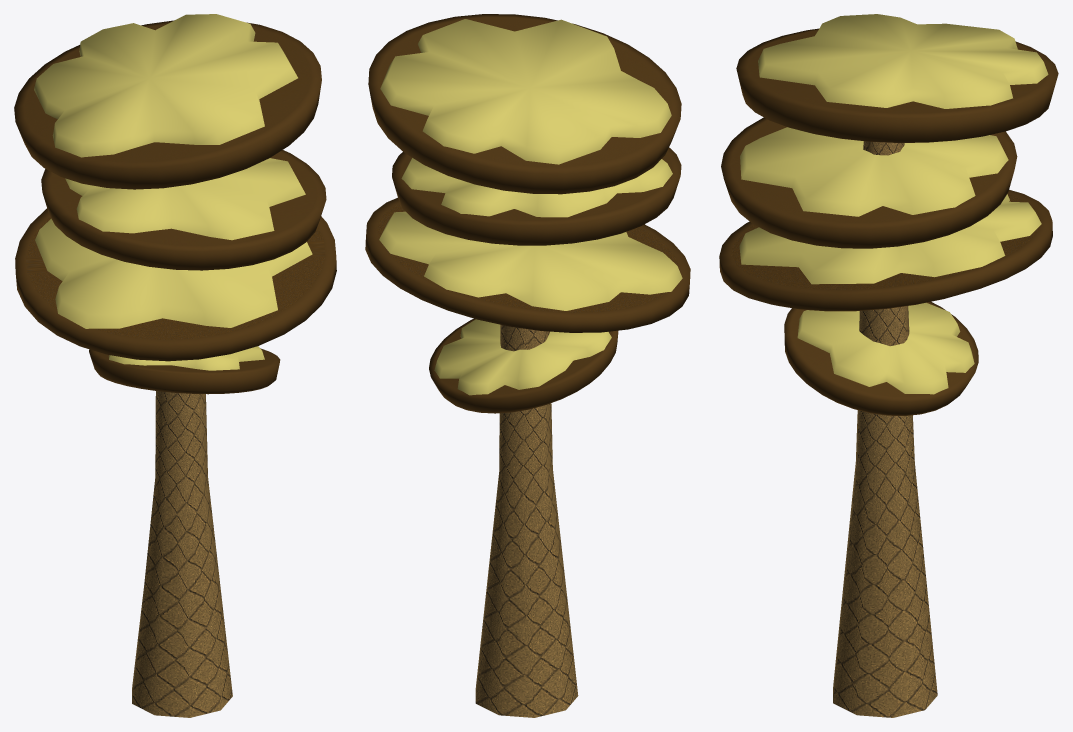
Rendered from hillTree6.obj.
3 renders of one model, left to right at view 1: azimuth 30°, elevation 25°; view 2: azimuth 150°, elevation 25°; view 3: azimuth 270°, elevation 25°, orthographic. The views are drawn at different scales.
Visible parts, largest first — view 1: Cylinder.001_Cylinder.002, wood_Cylinder; view 2: Cylinder.001_Cylinder.002, wood_Cylinder; view 3: Cylinder.001_Cylinder.002, wood_Cylinder.
Part boxes in pixels (x1,y1,x2,y2): Cylinder.001_Cylinder.002: (14, 14, 336, 394); wood_Cylinder: (132, 391, 232, 717); Cylinder.001_Cylinder.002: (365, 14, 690, 413); wood_Cylinder: (475, 324, 578, 717); Cylinder.001_Cylinder.002: (719, 14, 1058, 415); wood_Cylinder: (833, 141, 937, 717).
Bounding box in the file's own units: 1.43 × 3.09 × 1.46.
3 materials, 3 textured.
